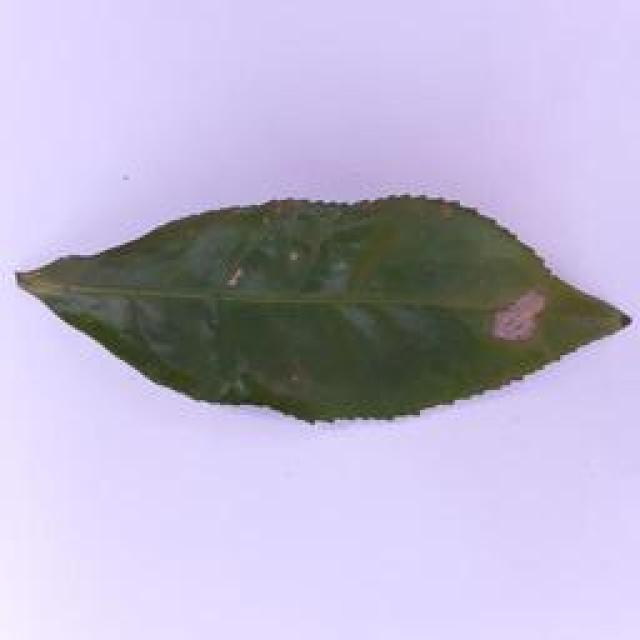Gray Blight: (10, 190, 638, 431)
